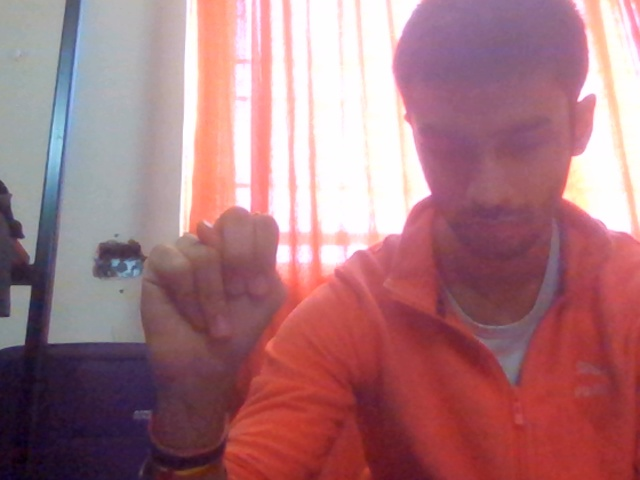N: (102, 176, 321, 423)
